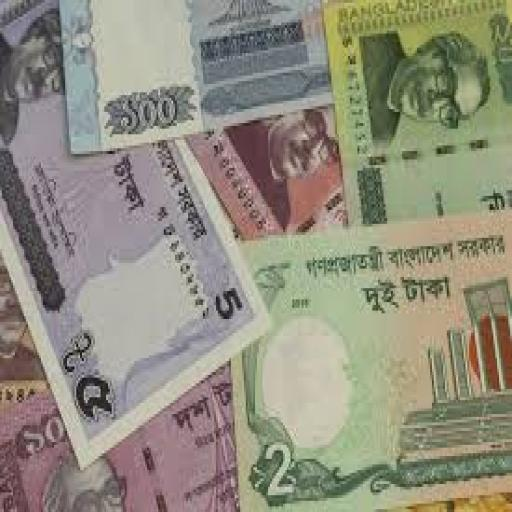20taka: (326, 3, 510, 228)
2taka: (235, 208, 510, 509)
5taka: (0, 0, 270, 472)
